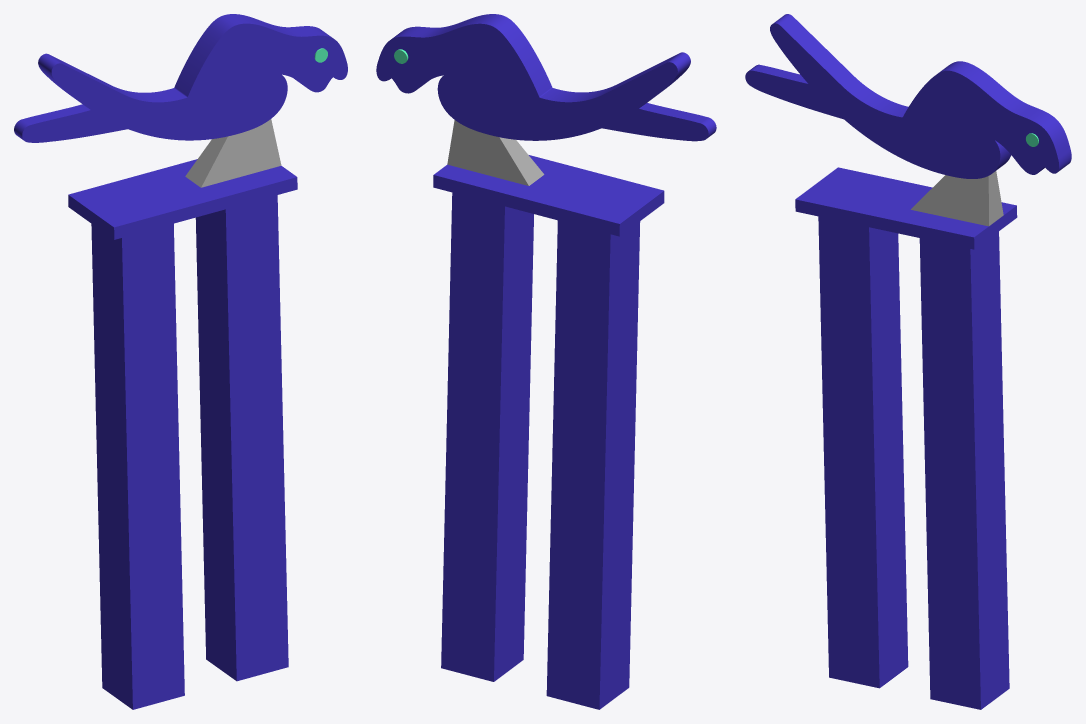
The model's file is sireno.gltf.
3 views of the same model, side by side, from view 1: azimuth 30°, elevation 25°; view 2: azimuth 150°, elevation 25°; view 3: azimuth 330°, elevation 25° (orthographic). The views are drawn at different scales.
Visible parts, largest first — view 1: instance-def_1-aa826846-ff05-4cd7-bea9-689ac1a3430b, Mesh; view 2: instance-def_1-aa826846-ff05-4cd7-bea9-689ac1a3430b, Mesh; view 3: instance-def_1-aa826846-ff05-4cd7-bea9-689ac1a3430b, Mesh.
Boxes of the visible parts, x1,y1,x2,y2 form: instance-def_1-aa826846-ff05-4cd7-bea9-689ac1a3430b: (14, 14, 347, 681); Mesh: (91, 223, 184, 709); instance-def_1-aa826846-ff05-4cd7-bea9-689ac1a3430b: (376, 14, 716, 681); Mesh: (546, 220, 640, 709); instance-def_1-aa826846-ff05-4cd7-bea9-689ac1a3430b: (745, 14, 1071, 709); Mesh: (818, 216, 908, 688).
Size of the model in its own units: 0.7026 by 1.35 by 0.1726.
